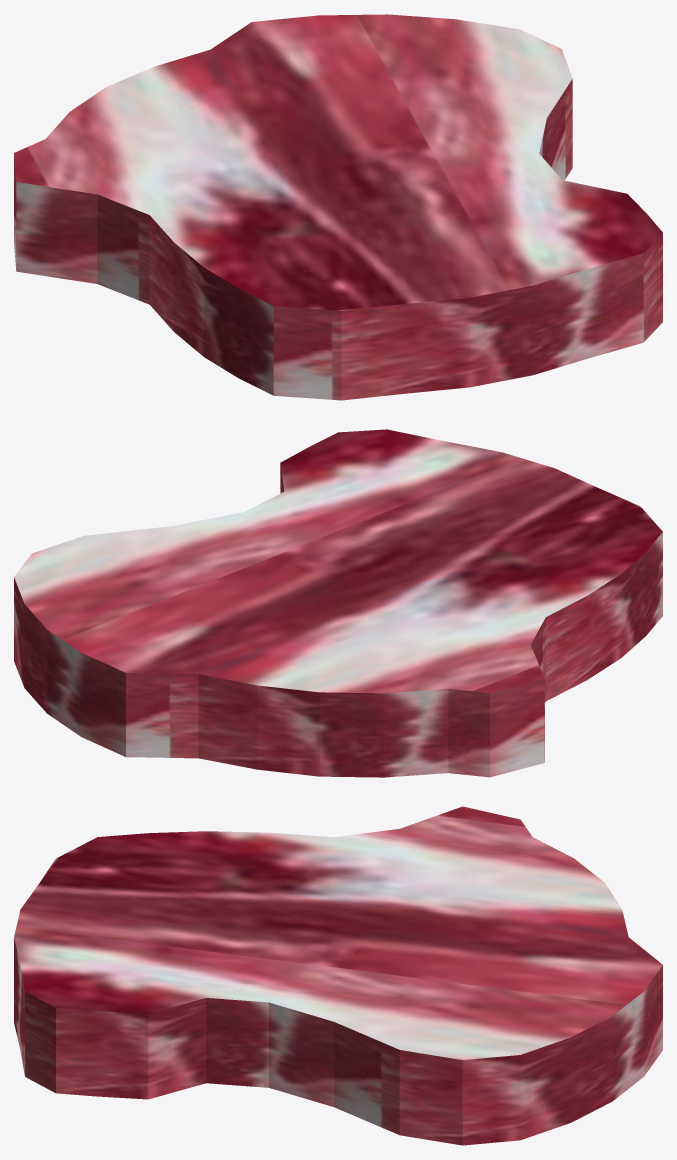
The model's file is Meat_Raw Pork.glb.
The picture shows the model from 3 angles, top to bottom: view 1: azimuth 30°, elevation 25°; view 2: azimuth 150°, elevation 25°; view 3: azimuth 270°, elevation 25°; orthographic projection. The views are drawn at different scales.
Parts seen in each view (by area): view 1: meat_rawpork.001; view 2: meat_rawpork.001; view 3: meat_rawpork.001.
Boxes of the visible parts, x1,y1,x2,y2 form: meat_rawpork.001: [14, 14, 662, 400]; meat_rawpork.001: [14, 429, 662, 777]; meat_rawpork.001: [14, 806, 662, 1145].
Bounding box in the file's own units: 0.3194 × 0.0501 × 0.3452.
Materials: 1 (1 with a texture image).
